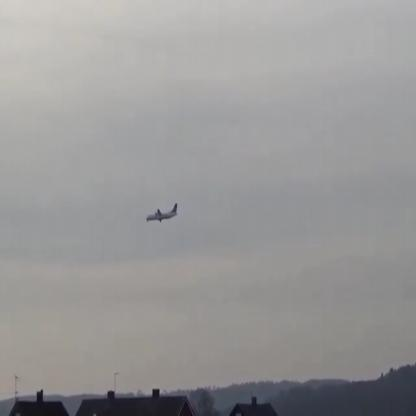CIV_Plane: (146, 203, 180, 224)
